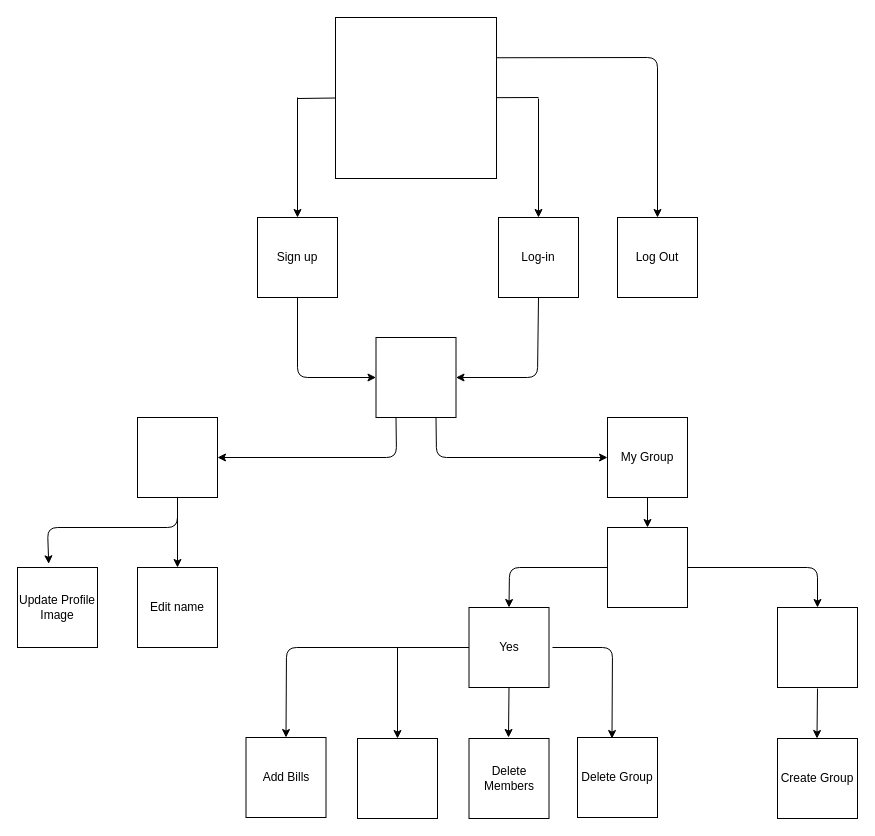
Some shapes in this 875 by 836 pixel diagram are drawn without their labels. Each missing label, with the box of its shape:
Add Members: (356, 738, 438, 818)
Dashboard: (375, 336, 456, 418)
Group Owner?: (606, 526, 688, 608)
No: (776, 606, 858, 688)
Profile Page: (136, 416, 218, 498)
Welcome Page: (334, 16, 496, 178)
